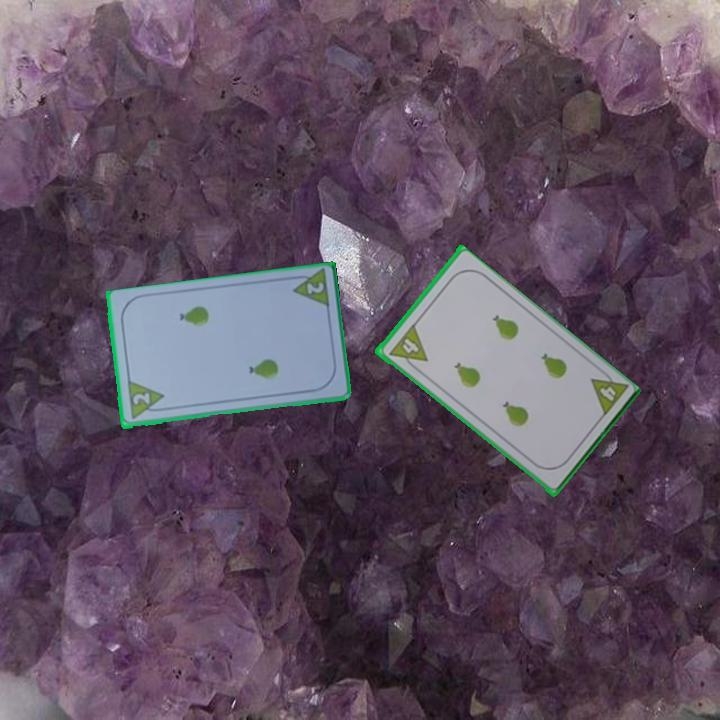2p: (123, 378, 168, 423), (303, 279, 327, 297)
4p: (395, 323, 430, 362), (595, 383, 619, 404)
